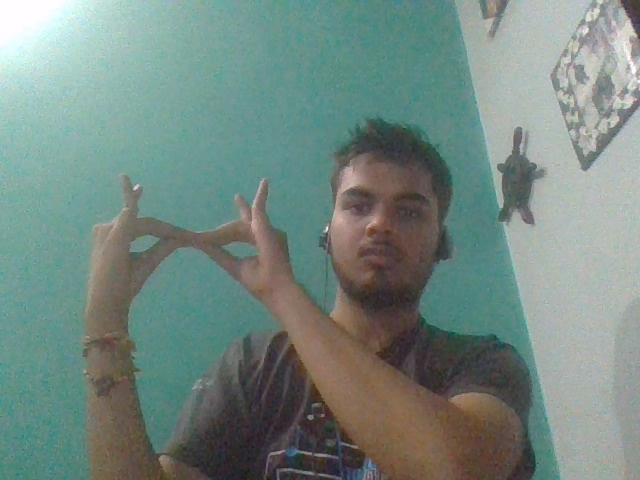family: (72, 172, 295, 299)
